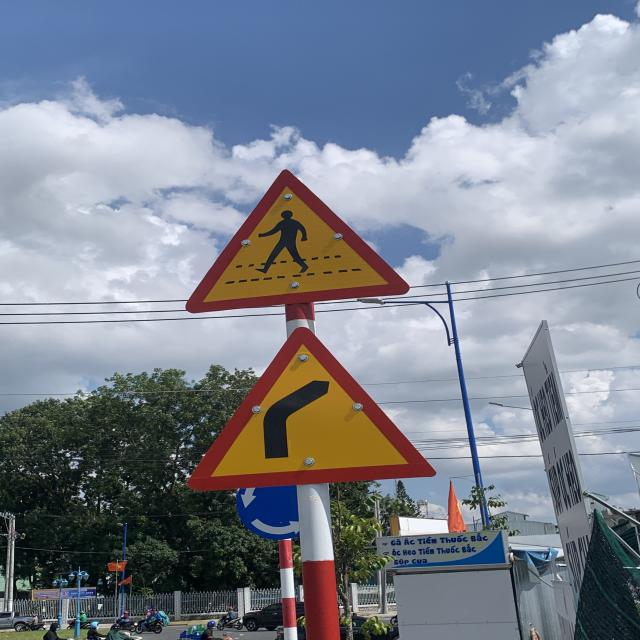Duong_Nguoi_Di_Bo_Cat_Ngang: (189, 328, 436, 494)
Duong_Nguoi_Di_Bo_Sang_Ngang: (185, 168, 412, 314)
